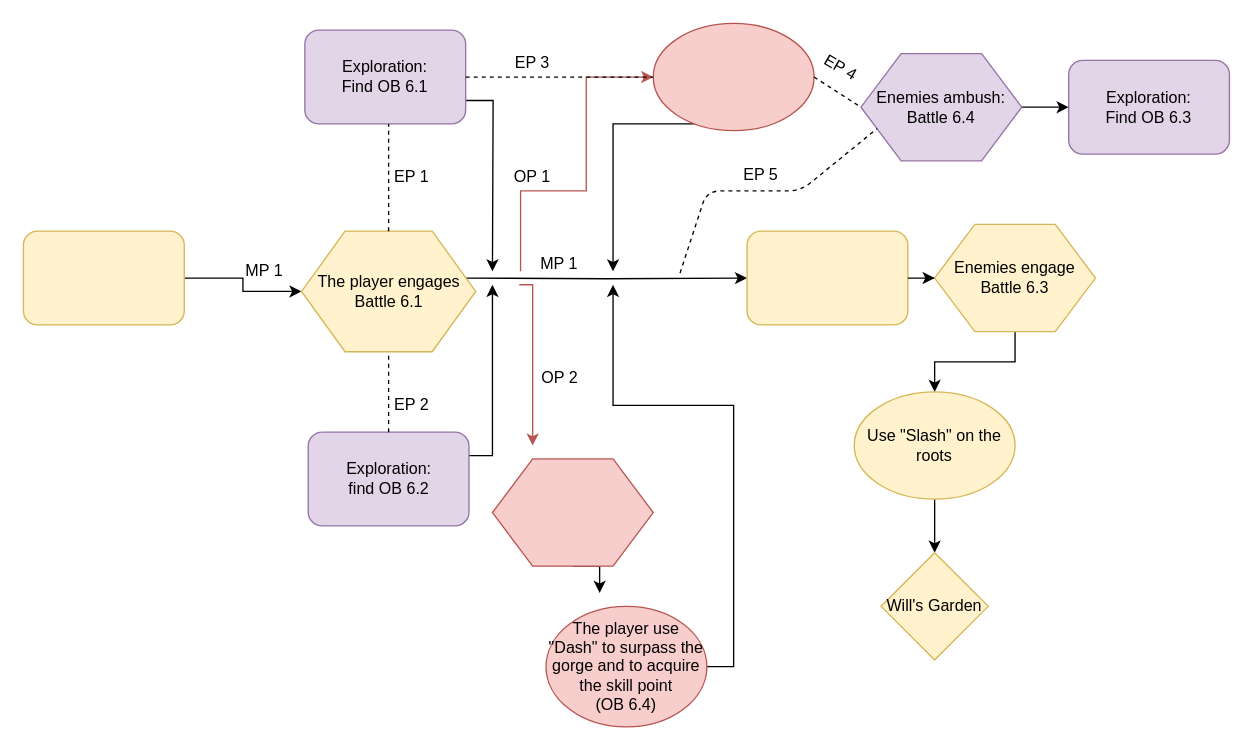
This 1253x750 diagram has some shape labels left out. The shapes that lost their labels are listed below. From the top down, each one's box as (x1, y1, x2, y2) in pixels, then its label:
(652, 22, 814, 131): Dialogue with the Father
(22, 230, 184, 325): The player reaches the area
(746, 230, 908, 325): The player reaches the Mind Flayer's Roots
(491, 458, 653, 566): Enemies engage Battle 6.2
